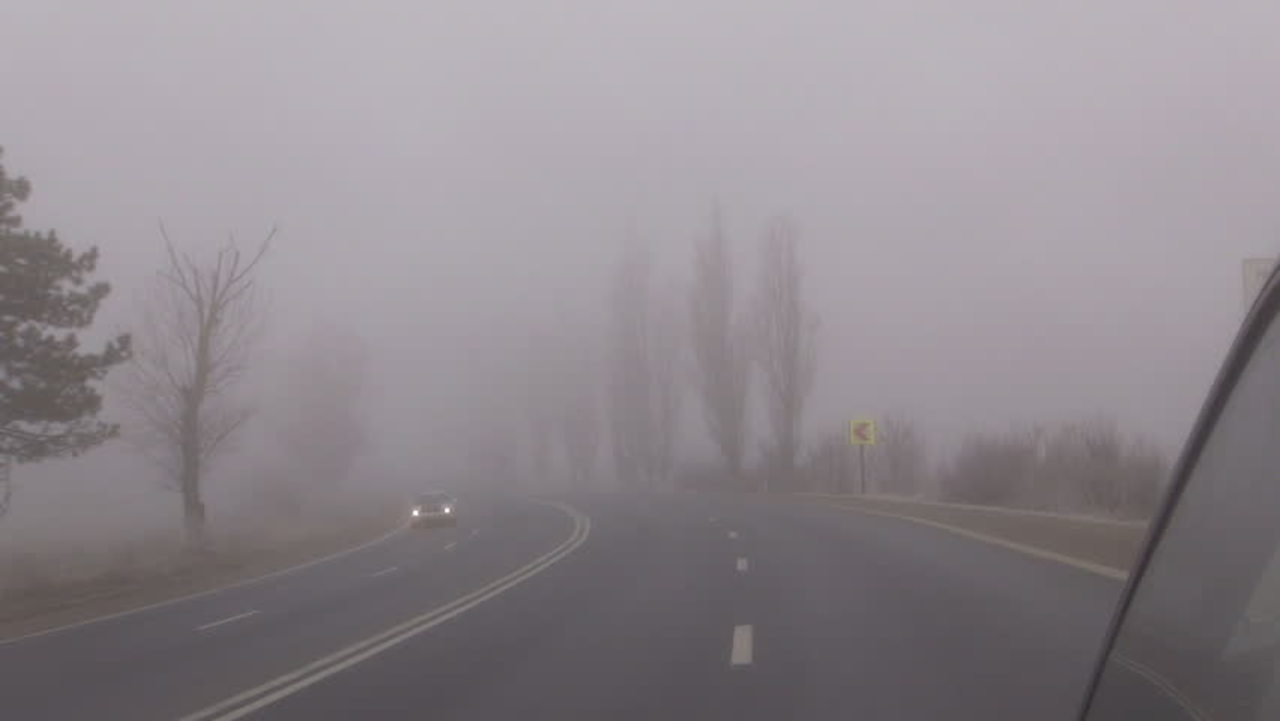car: (409, 490, 461, 529)
